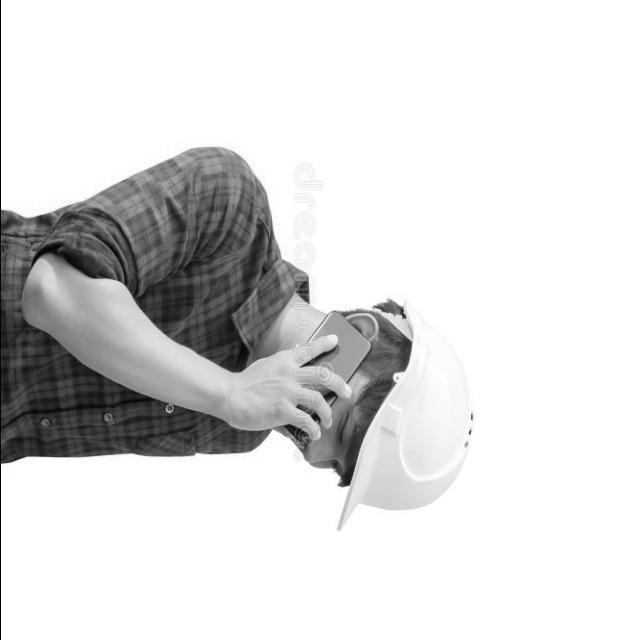safety_helmet: (336, 300, 473, 528)
